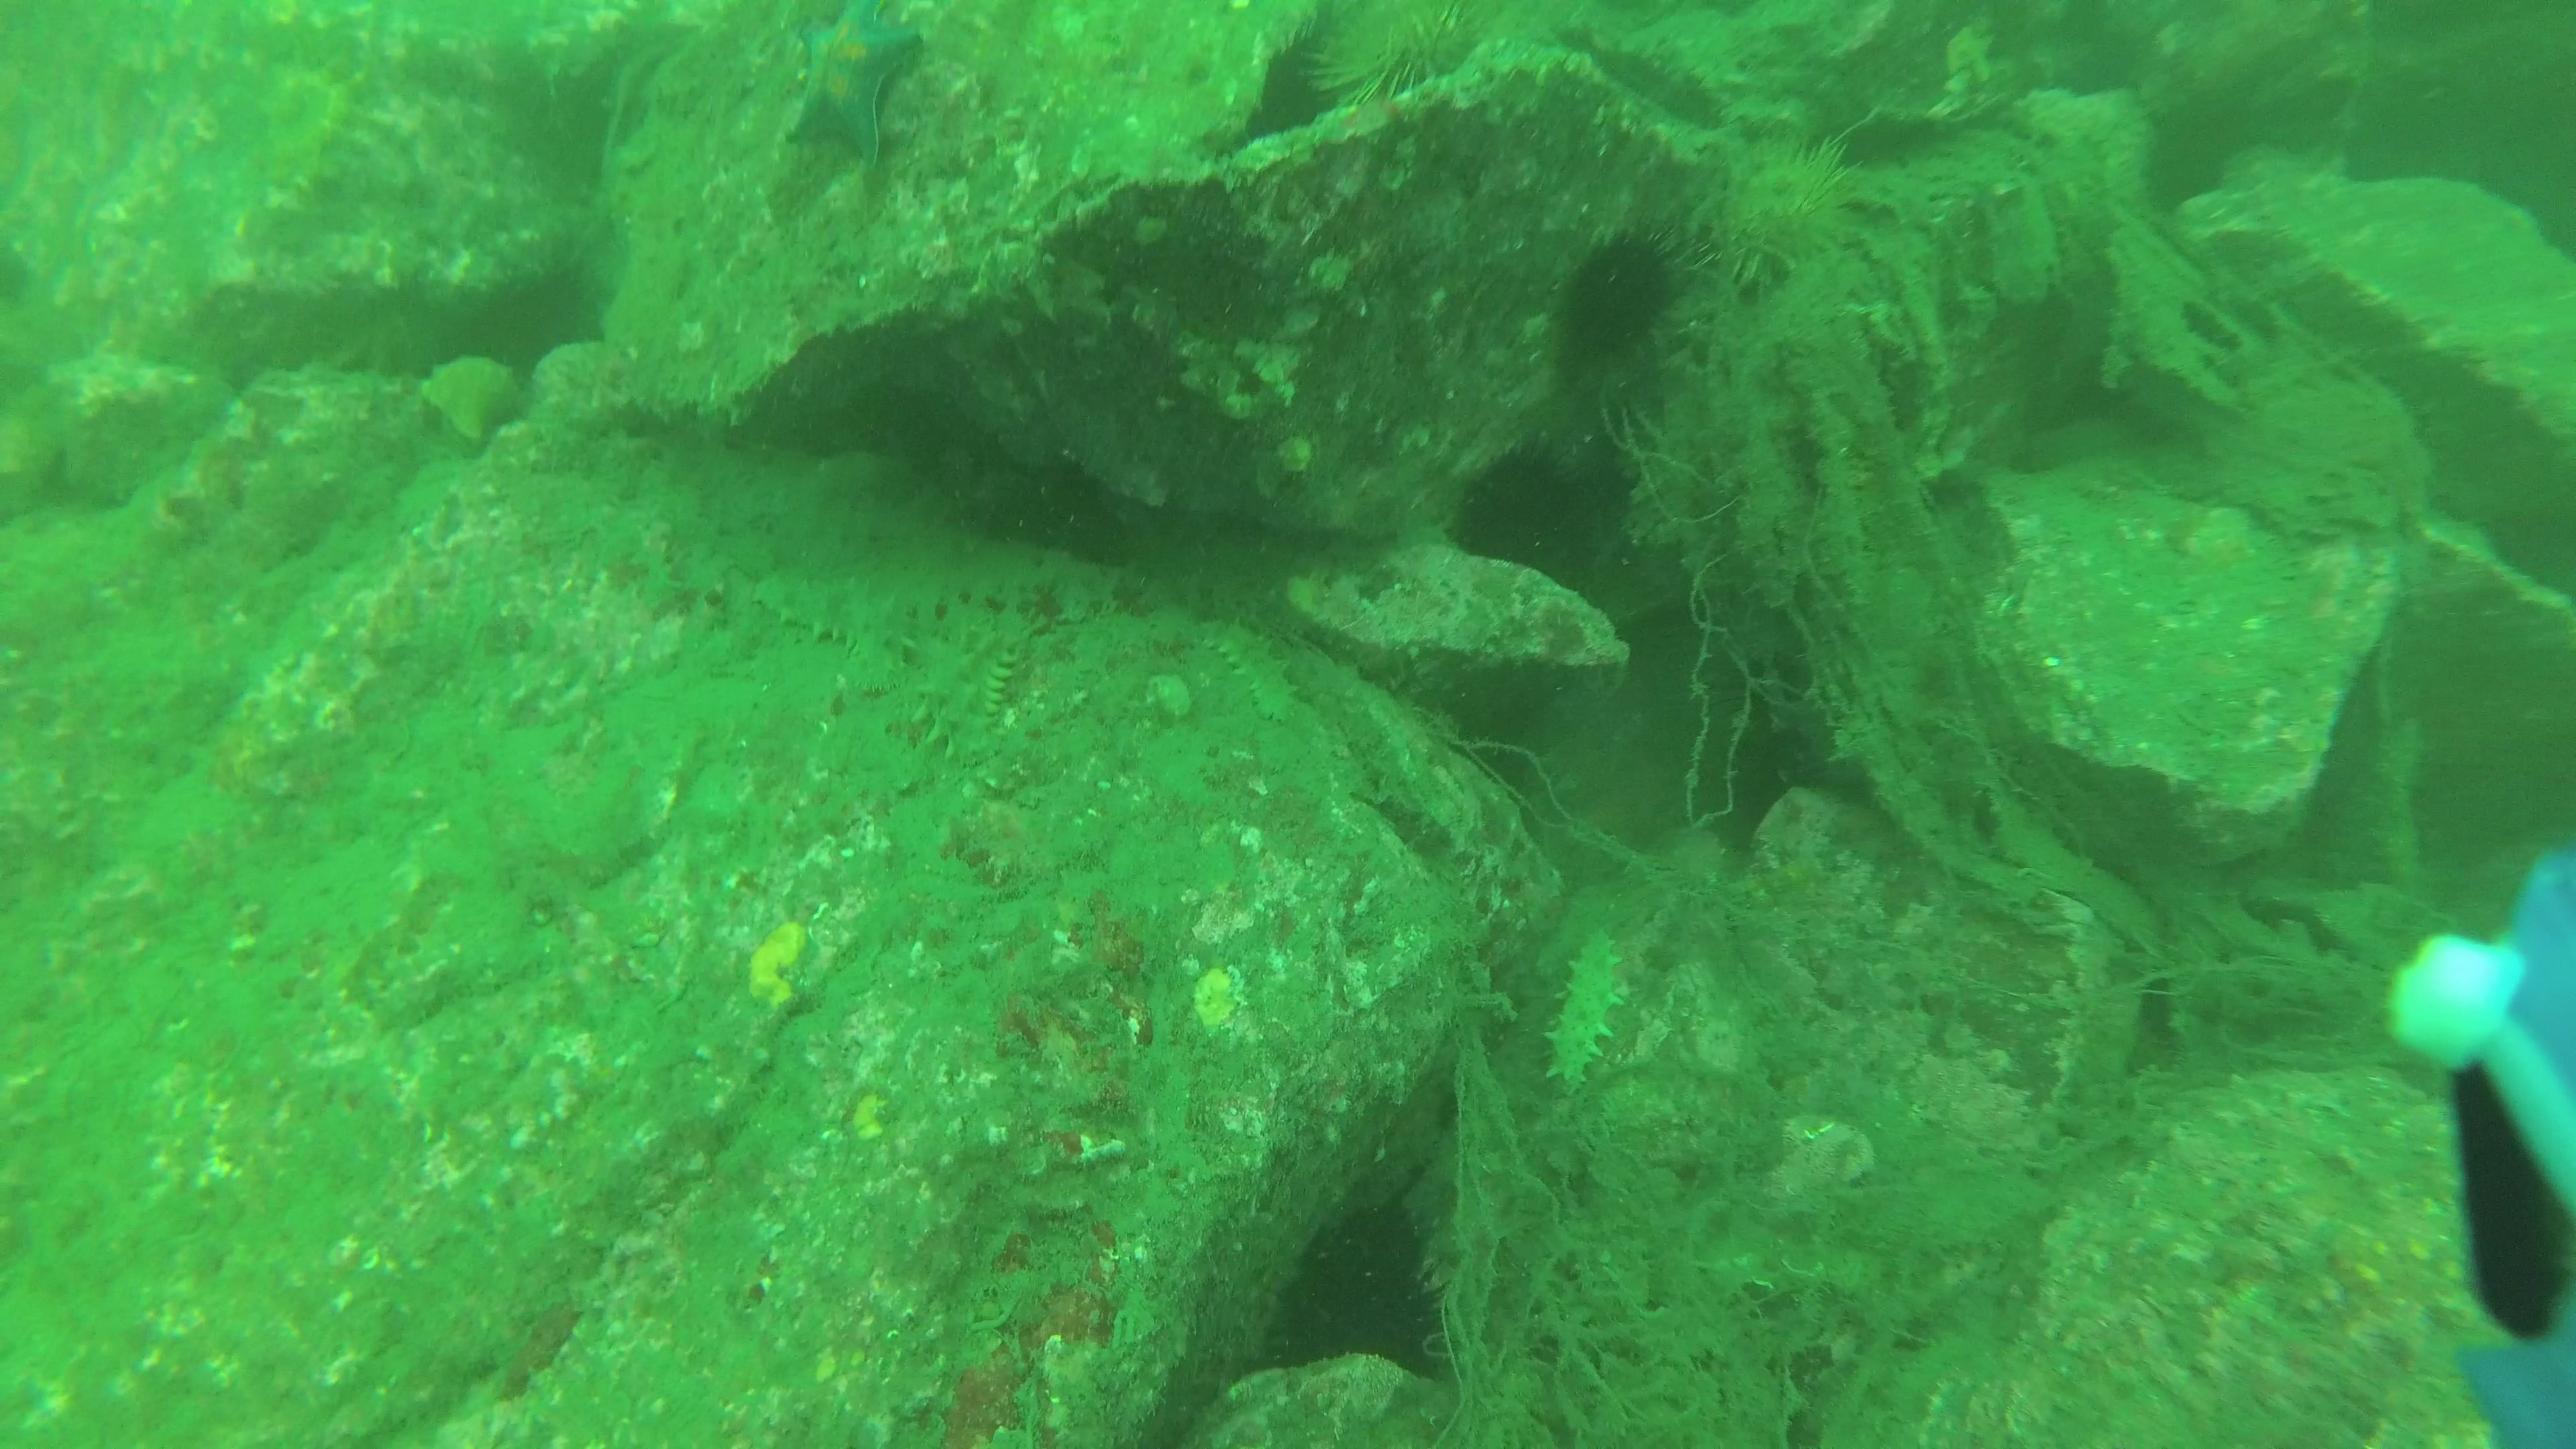echinus: (1265, 1191, 1456, 1382), (1706, 119, 1870, 303), (1550, 218, 1714, 380), (1299, 7, 1491, 124), (1445, 428, 1599, 564)
holothurian: (745, 561, 922, 683), (904, 607, 1028, 766), (1537, 918, 1631, 1093), (1187, 610, 1306, 732)
scallop: (410, 352, 533, 444)
starfish: (782, 7, 925, 172)
